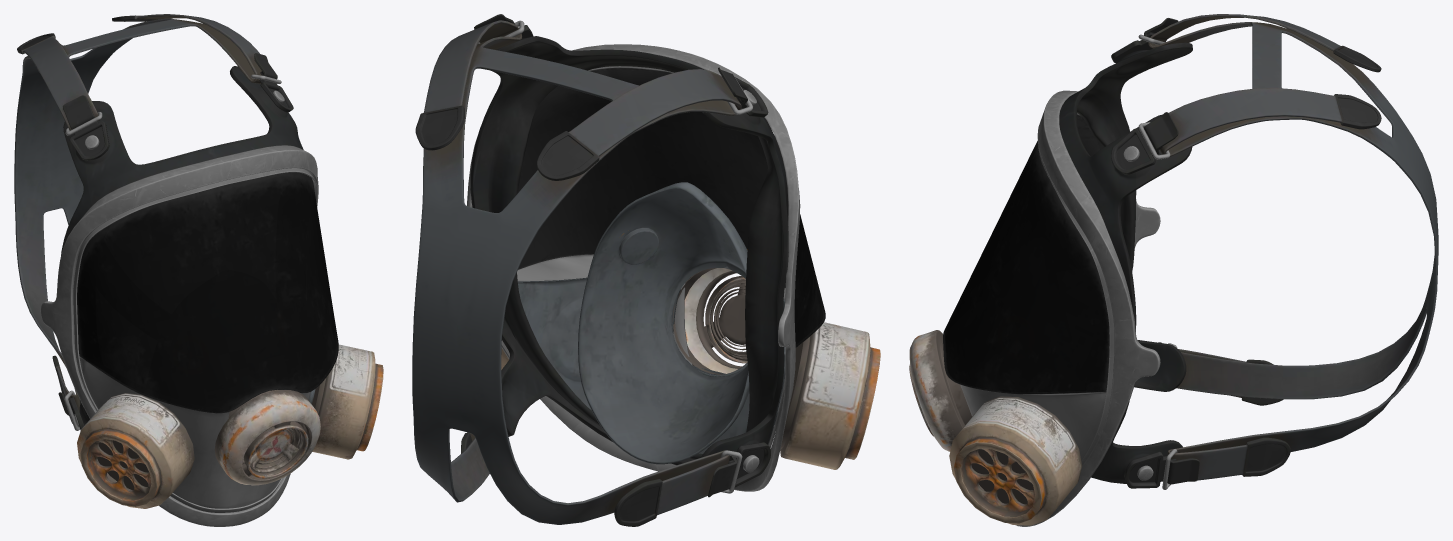
Rendered from gas-mask.glb.
3 renders of one model, left to right at view 1: azimuth 30°, elevation 25°; view 2: azimuth 150°, elevation 25°; view 3: azimuth 270°, elevation 25°, orthographic. The views are drawn at different scales.
Parts seen in each view (by area): view 1: desirefx.me_011_glass_metal_0, desirefx.me_004_SIdeAir_tyoe_shi_0, desirefx.me_016_Strap_0, desirefx.me_010_Outer_mask_0, desirefx.me_018_Steel_n_nuts_0; view 2: desirefx.me_016_Strap_0, desirefx.me_011_glass_metal_0, desirefx.me_014_Inner_mask_0, desirefx.me_004_SIdeAir_tyoe_shi_0, desirefx.me_010_Outer_mask_0, desirefx.me_018_Steel_n_nuts_0; view 3: desirefx.me_011_glass_metal_0, desirefx.me_016_Strap_0, desirefx.me_004_SIdeAir_tyoe_shi_0, desirefx.me_010_Outer_mask_0, desirefx.me_018_Steel_n_nuts_0.
Part boxes in pixels (x1,y1,x2,y2): desirefx.me_011_glass_metal_0: (61, 66, 338, 508); desirefx.me_004_SIdeAir_tyoe_shi_0: (77, 344, 383, 508); desirefx.me_016_Strap_0: (14, 14, 293, 430); desirefx.me_010_Outer_mask_0: (40, 145, 318, 526); desirefx.me_018_Steel_n_nuts_0: (64, 74, 284, 430); desirefx.me_016_Strap_0: (412, 14, 770, 526); desirefx.me_011_glass_metal_0: (470, 36, 825, 465); desirefx.me_014_Inner_mask_0: (517, 182, 785, 464); desirefx.me_004_SIdeAir_tyoe_shi_0: (501, 268, 880, 469); desirefx.me_010_Outer_mask_0: (467, 44, 800, 491); desirefx.me_018_Steel_n_nuts_0: (478, 20, 759, 493); desirefx.me_011_glass_metal_0: (943, 42, 1192, 483); desirefx.me_016_Strap_0: (1111, 14, 1438, 488); desirefx.me_004_SIdeAir_tyoe_shi_0: (909, 330, 1082, 525); desirefx.me_010_Outer_mask_0: (1016, 90, 1160, 526); desirefx.me_018_Steel_n_nuts_0: (1123, 34, 1177, 489).
Bounding box in the file's own units: 0.3712 × 0.4937 × 0.515.
Materials: 6 (6 with a texture image).
